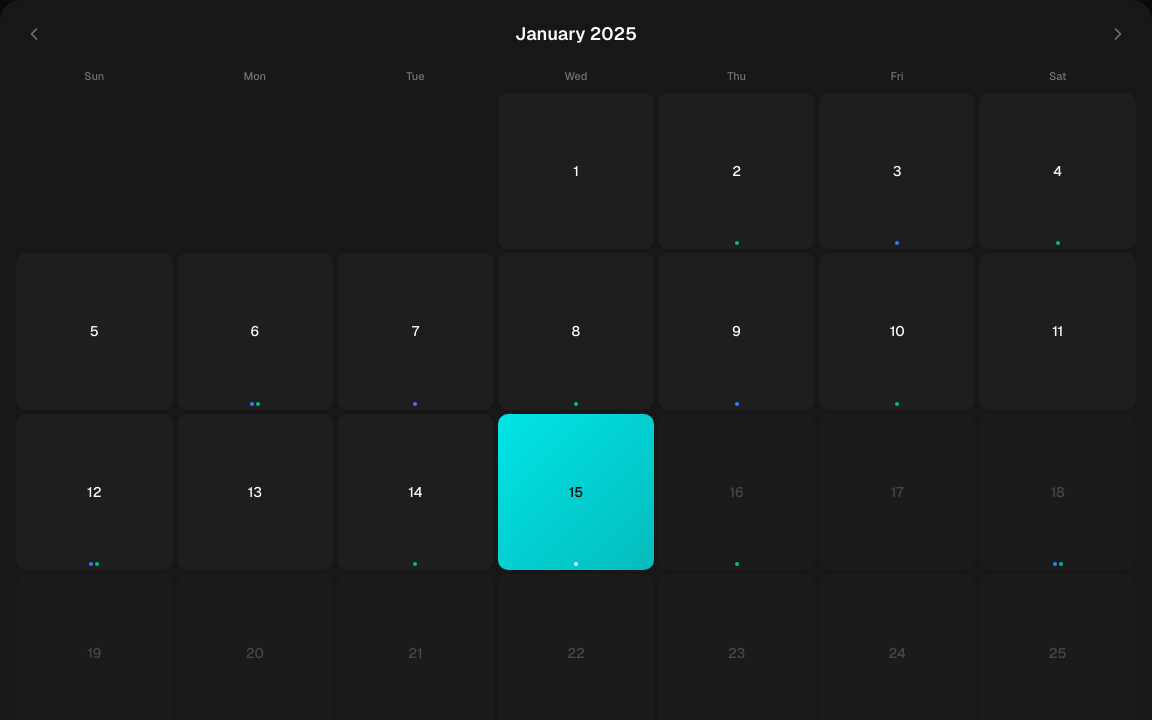
it: LogCalendarClient › fetches new data when navigating to previous month
Click the button named "previous month": [34, 34] box [16, 16, 52, 52]
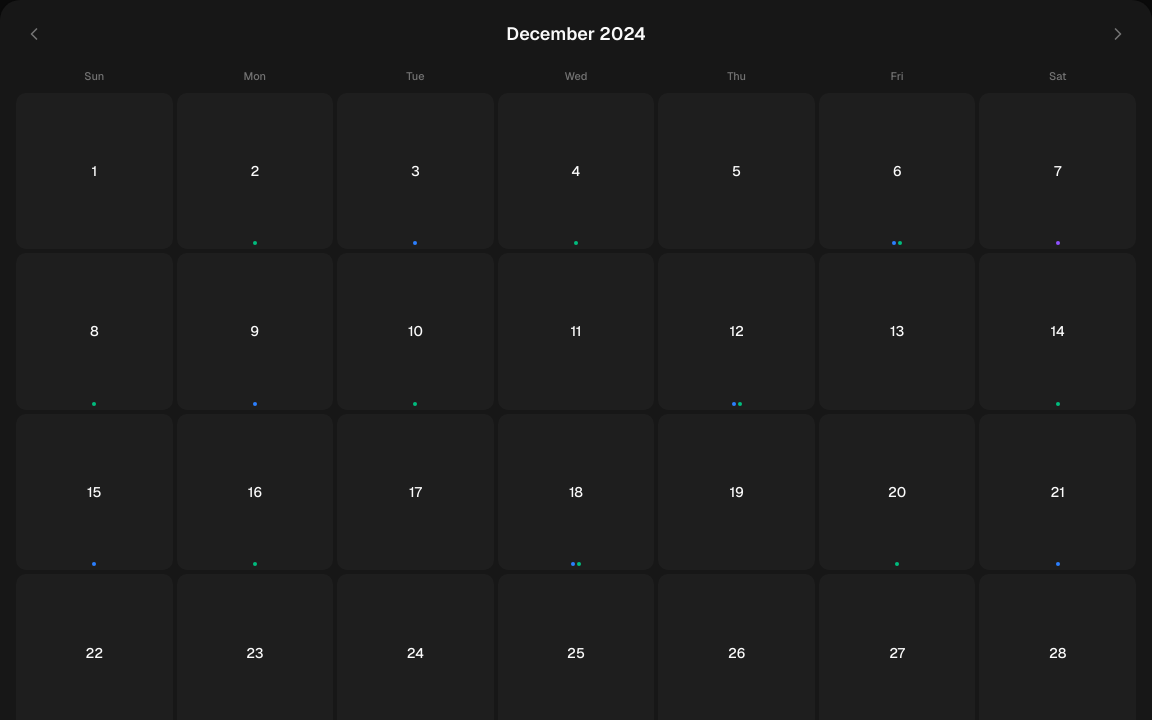
expect the heading "December 2024" is shown: met, box [506, 20, 646, 48]
